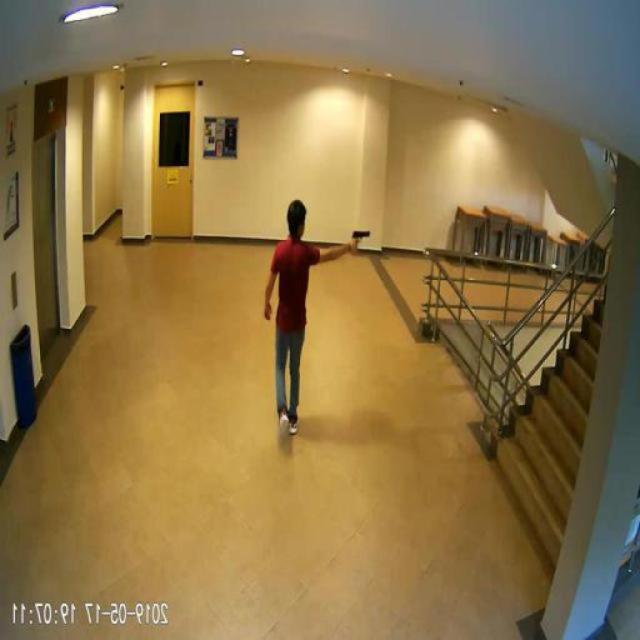pistol: (354, 228, 372, 250)
